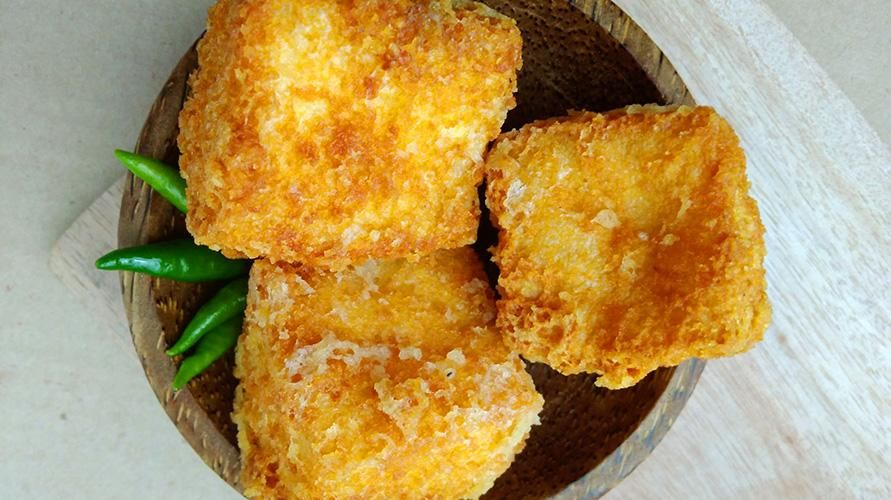Tahu: (169, 12, 543, 265), (495, 92, 764, 417), (221, 215, 521, 487)
